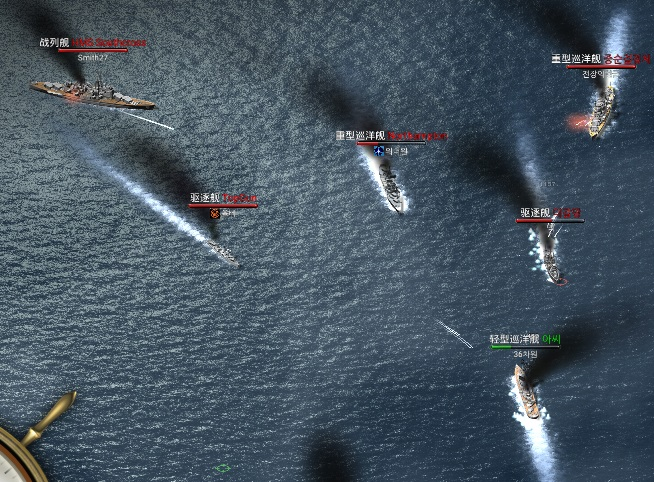ship: (32, 75, 159, 112), (507, 362, 544, 419), (534, 231, 568, 283), (196, 233, 242, 270), (374, 160, 406, 213), (587, 86, 616, 138)
